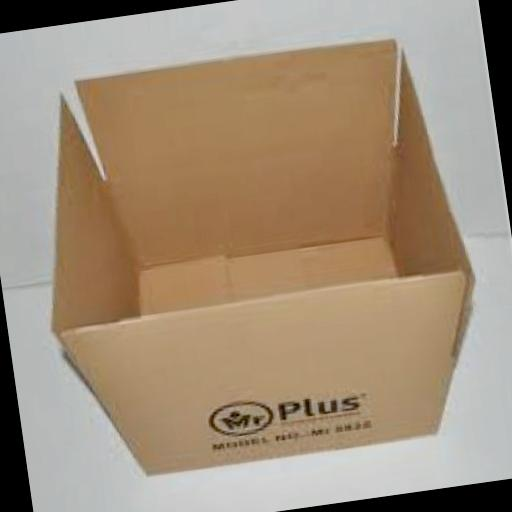cardboard: (16, 25, 494, 485), (60, 271, 486, 486)
